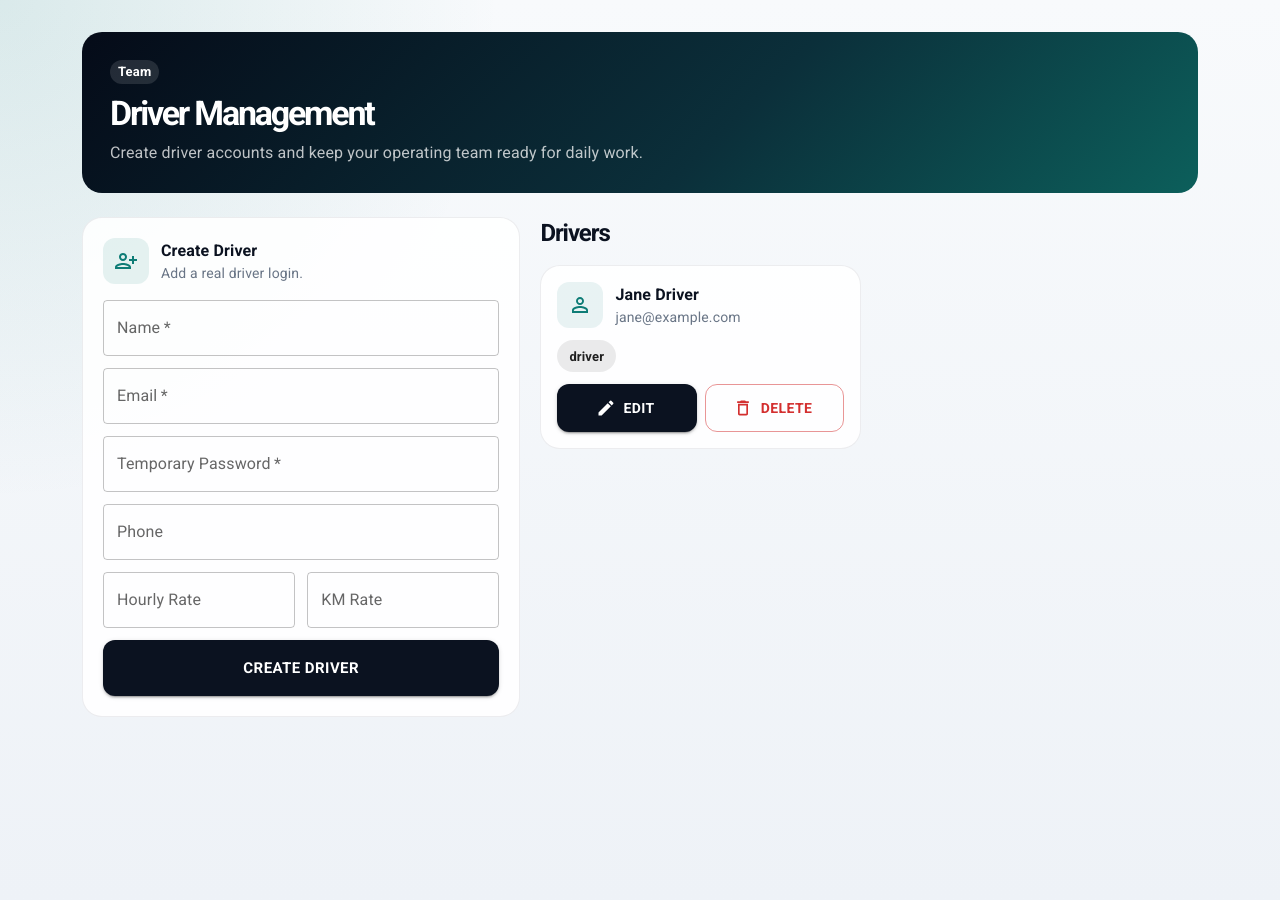
Test: admin Drivers — archive (not permanent delete) wording › PASS: confirming shows the backend's own success message (e.g. 'Driver archived'), not a hardcoded 'deleted' message
Expected: the text "Jane Driver" is shown, left=615, top=285, right=699, bottom=304
Click the button "Delete": (774, 408) left=705, top=384, right=844, bottom=432
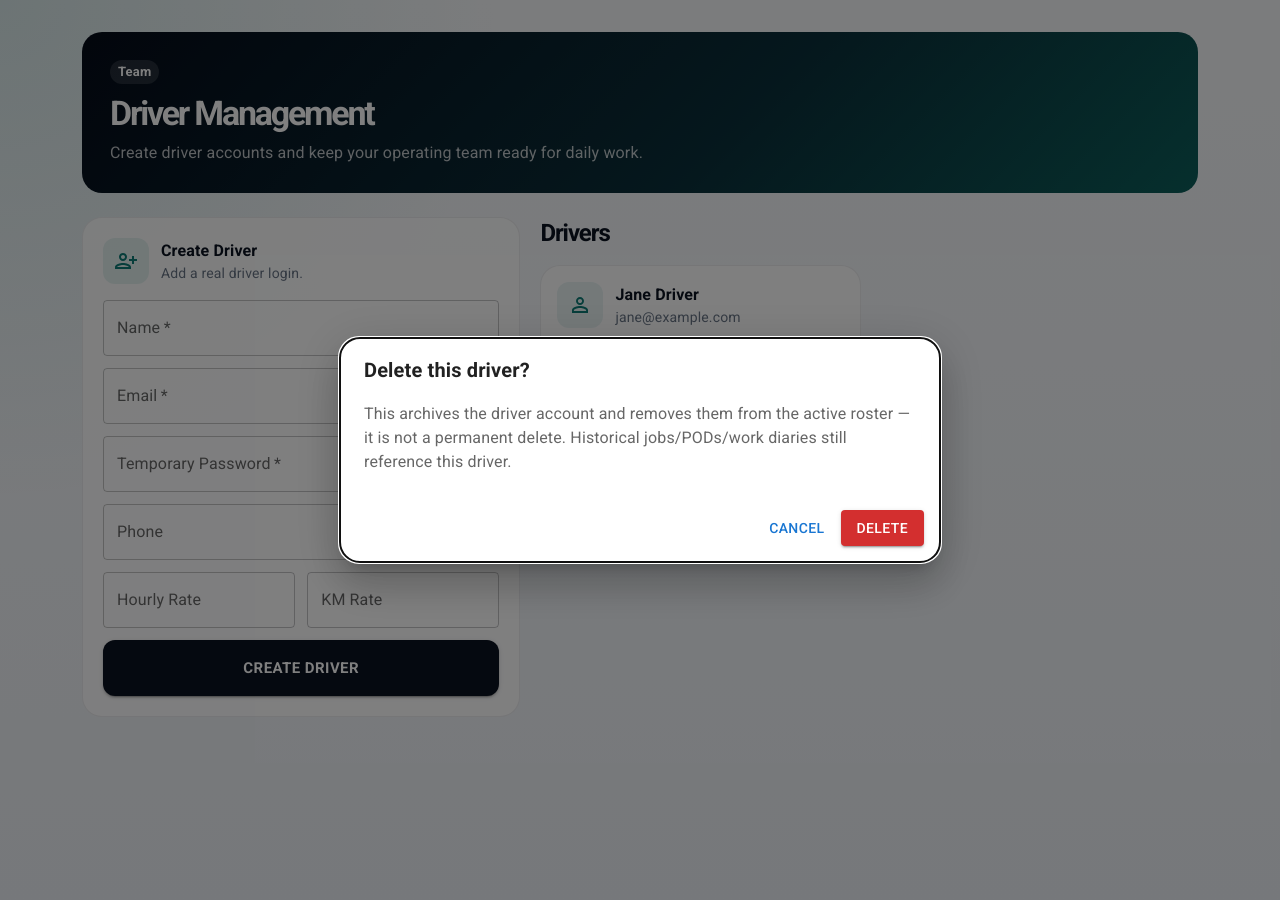
Click the button "Delete": (882, 528) left=840, top=510, right=924, bottom=546
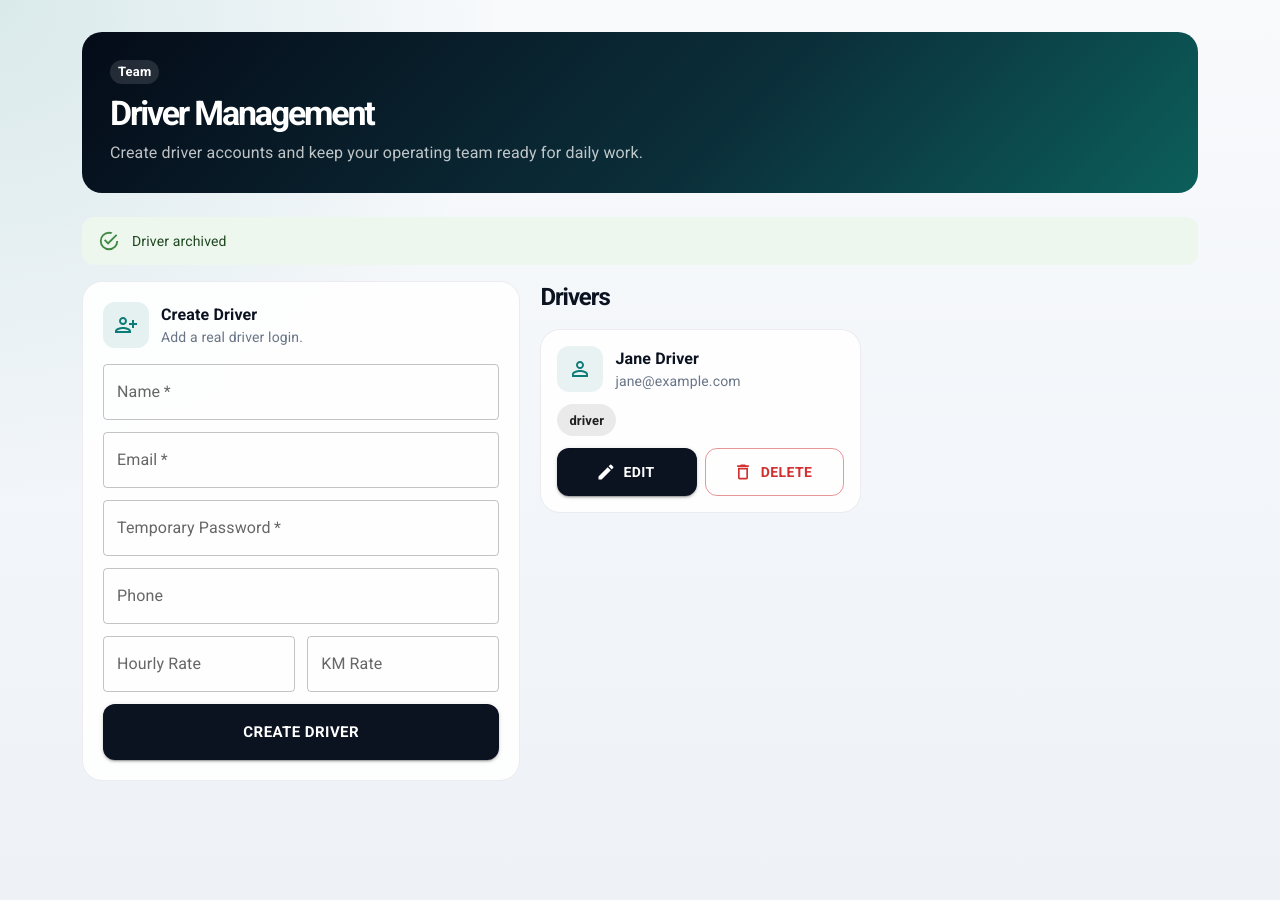
Now the text "Driver archived" is shown, box left=132, top=233, right=227, bottom=249
